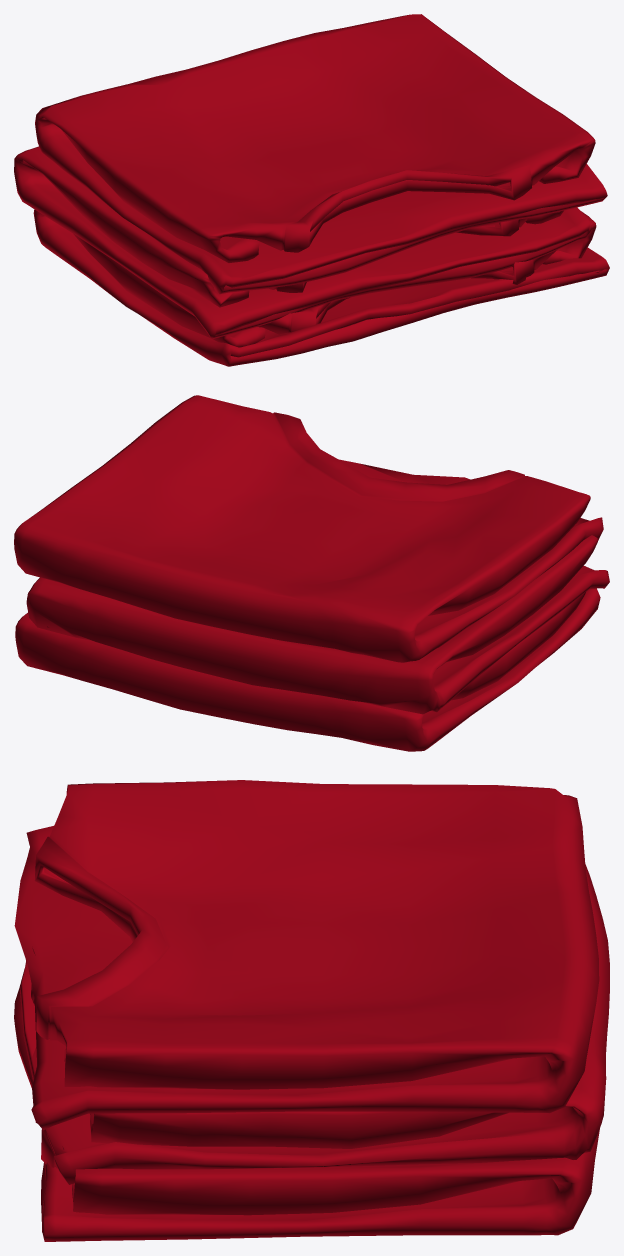
File: Folded_T_Shirt10.fbx
3 views of the same model, one above another, from view 1: azimuth 30°, elevation 25°; view 2: azimuth 150°, elevation 25°; view 3: azimuth 270°, elevation 25° (orthographic). The views are drawn at different scales.
Parts seen in each view (by area): view 1: Folded_T_Shirt10; view 2: Folded_T_Shirt10; view 3: Folded_T_Shirt10.
Part boxes in pixels (box(x1,y1,x2,y2)): Folded_T_Shirt10: box(14, 14, 609, 366); Folded_T_Shirt10: box(14, 395, 609, 751); Folded_T_Shirt10: box(14, 780, 609, 1241).
Size of the model in its own units: 38.43 by 11.89 by 33.24.
